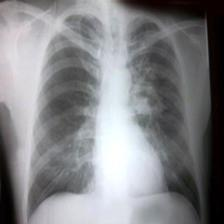tuberculosis: (20, 7, 202, 224)
